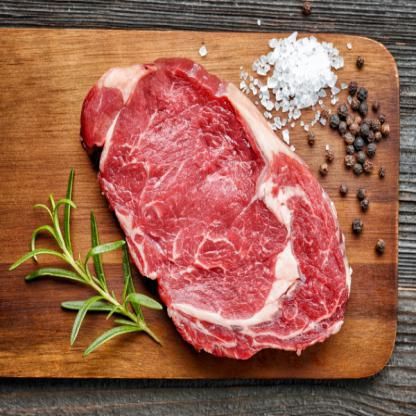beef: (97, 66, 350, 350)
